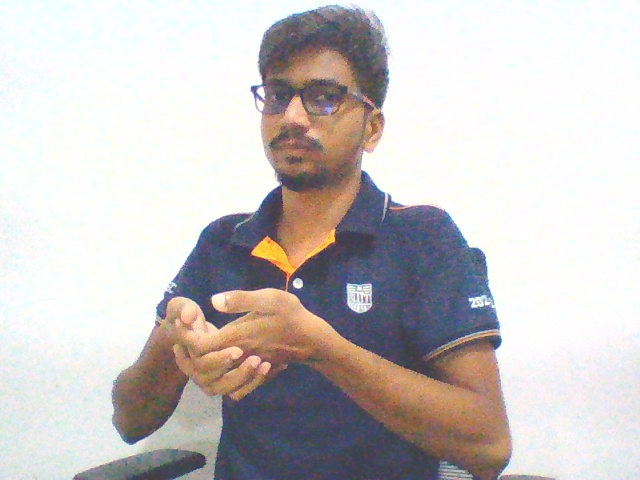mangosteen: (156, 287, 327, 407)
